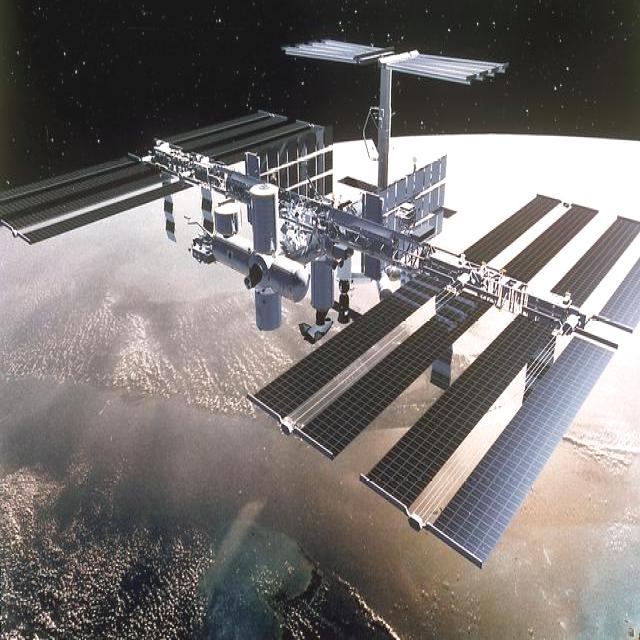medium_debris: (0, 33, 635, 574)
